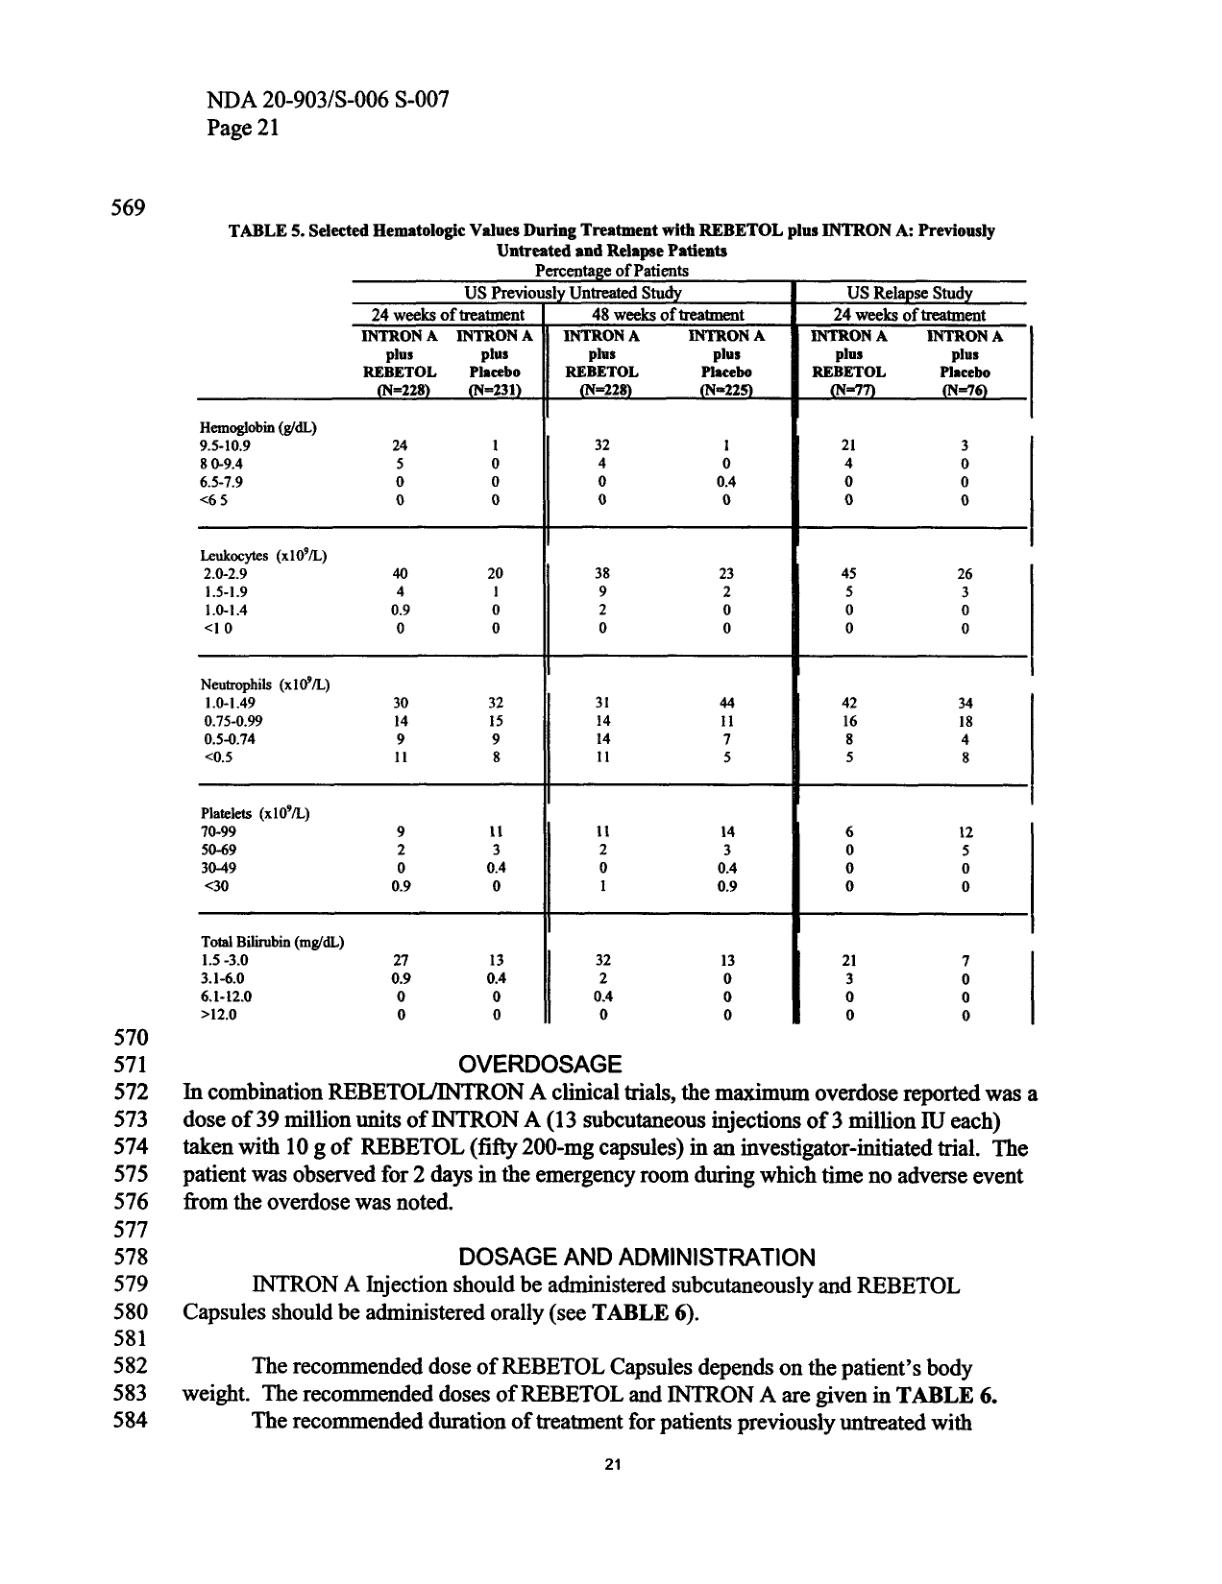partial_lined_merged_cells: (195, 259, 1035, 1032)
